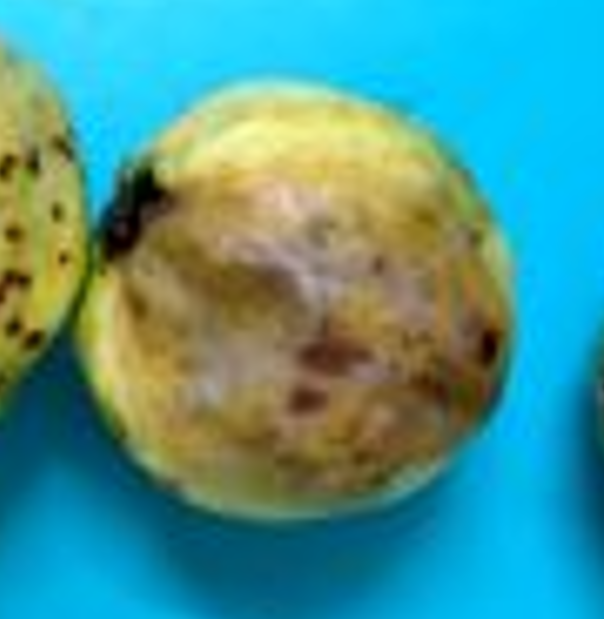guava_C: (66, 76, 516, 527)
